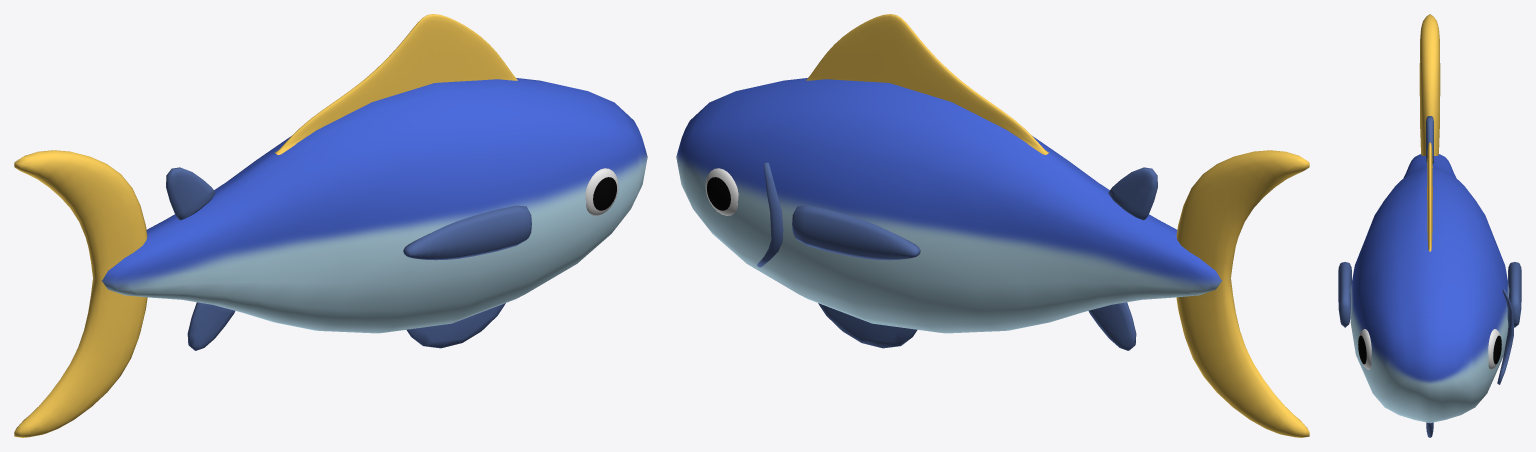
File: tuna.gltf
The picture shows the model from 3 angles, left to right: view 1: azimuth 30°, elevation 25°; view 2: azimuth 150°, elevation 25°; view 3: azimuth 270°, elevation 25°; orthographic projection. The views are drawn at different scales.
Visible parts, largest first — view 1: tuna, Cube.004, Cube.003, Cube.008, Vert.003, Vert.002, Vert.001, eye; view 2: tuna, Cube.004, Cube.003, Cube.002, Vert.003, Vert.002, Vert.001, eye, Vert; view 3: tuna, Cube.004, eye, Cube.008, Cube.002, Cube.003, Vert, Vert.002.
Boxes of the visible parts, box(x1,y1,x2,y2) form: tuna: box(94, 78, 647, 333); Cube.004: box(14, 150, 147, 437); Cube.003: box(274, 14, 517, 154); Cube.008: box(403, 205, 531, 260); Vert.003: box(406, 303, 505, 348); Vert.002: box(166, 167, 215, 220); Vert.001: box(187, 302, 235, 350); eye: box(585, 168, 618, 215); tuna: box(676, 78, 1229, 333); Cube.004: box(1176, 150, 1309, 437); Cube.003: box(806, 14, 1049, 154); Cube.002: box(792, 205, 920, 260); Vert.003: box(818, 303, 917, 348); Vert.002: box(1108, 167, 1157, 220); Vert.001: box(1088, 302, 1136, 350); eye: box(705, 168, 738, 215); Vert: box(757, 162, 783, 267); tuna: box(1350, 154, 1509, 423); Cube.004: box(1419, 14, 1440, 155); eye: box(1358, 329, 1501, 369); Cube.008: box(1338, 262, 1351, 327); Cube.002: box(1508, 262, 1521, 327); Cube.003: box(1427, 142, 1432, 251); Vert: box(1497, 289, 1513, 384); Vert.002: box(1426, 116, 1433, 163).
Bounding box in the file's own units: 7.3 × 3.73 × 2.22.
5 materials, 1 textured.
